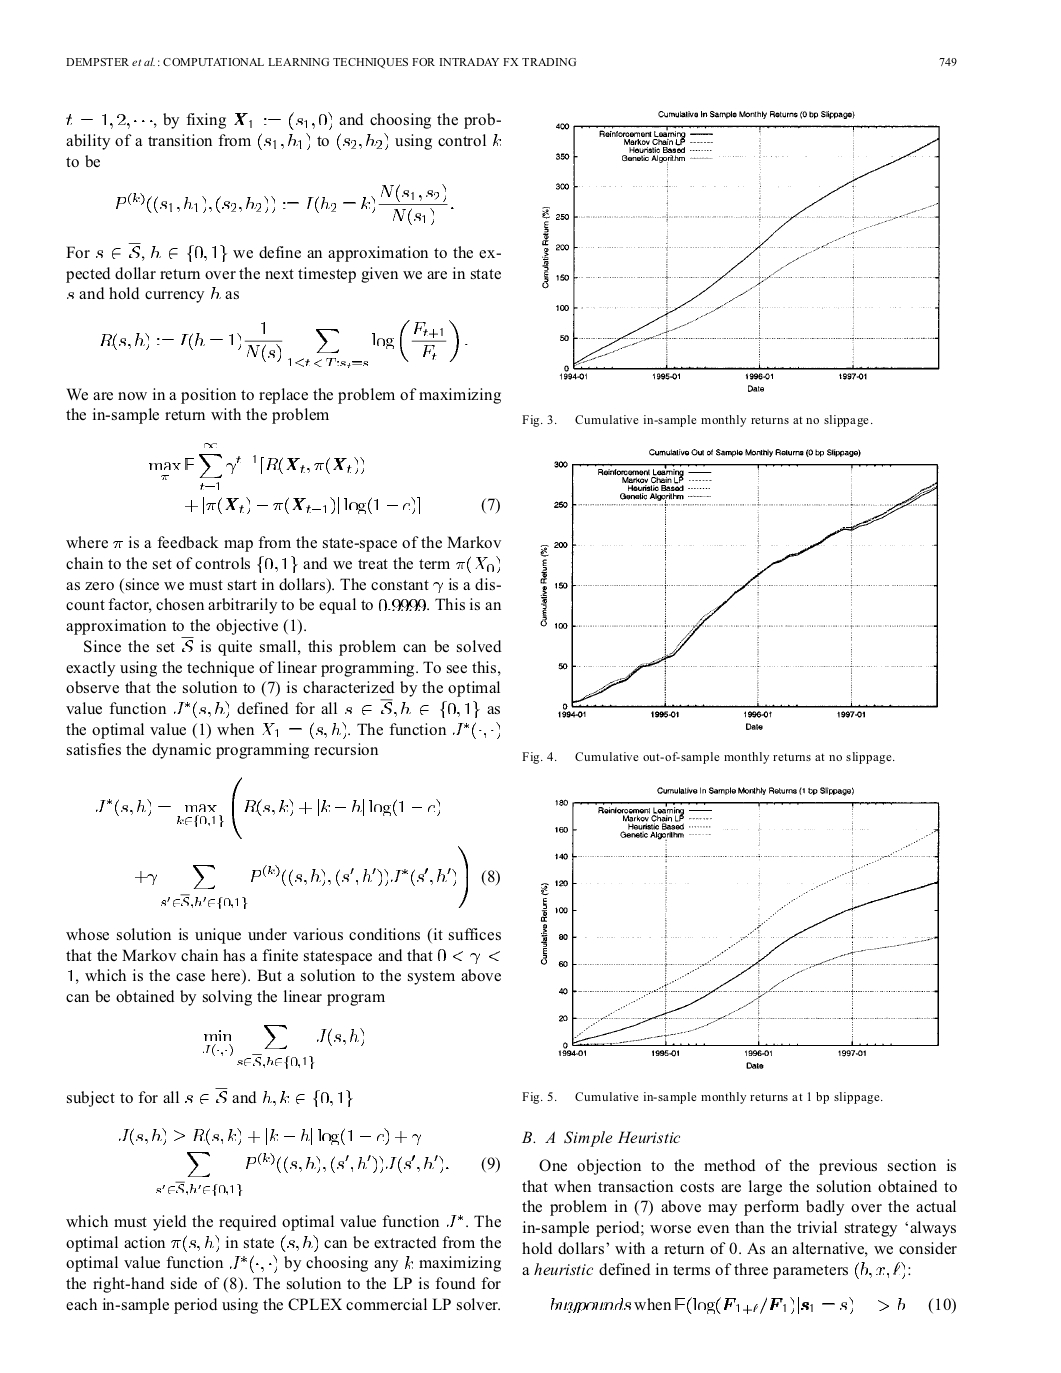figure: (542, 116, 940, 391), (541, 455, 938, 729), (541, 799, 940, 1068)
formula: (135, 845, 499, 909), (96, 776, 439, 839), (100, 319, 467, 368), (156, 1152, 499, 1195), (116, 183, 452, 225), (149, 444, 363, 489), (551, 1296, 955, 1314), (203, 1024, 363, 1069), (185, 496, 499, 514), (119, 1127, 420, 1145)
